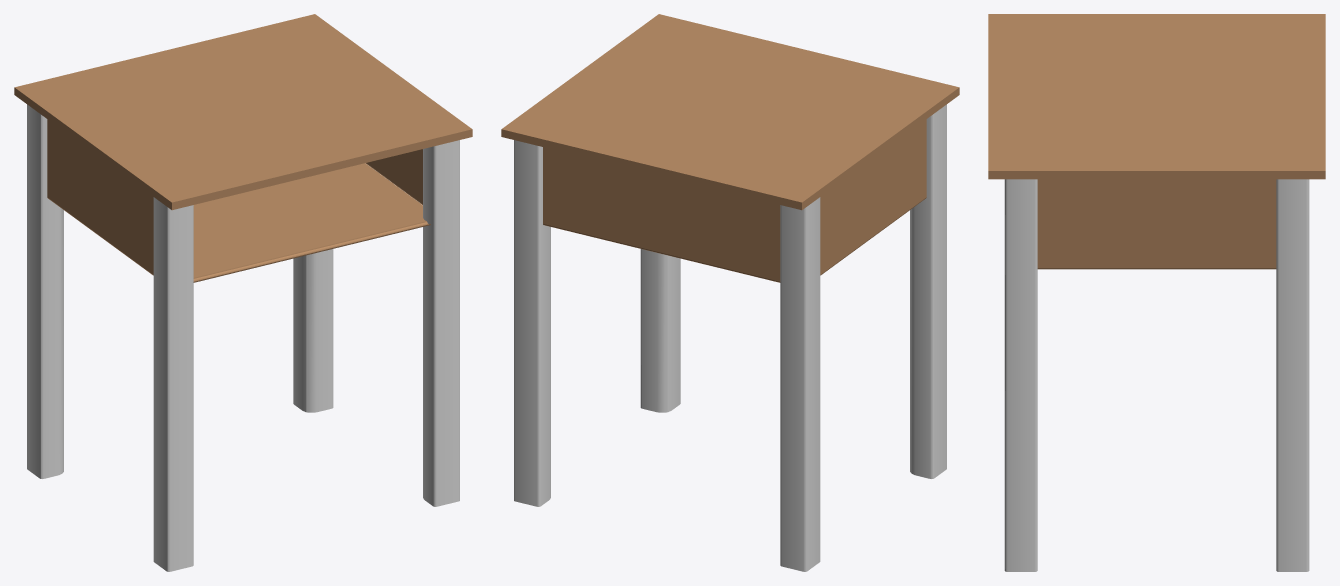
File: School desk Low poly 1.fbx
3 views of the same model, side by side, from view 1: azimuth 30°, elevation 25°; view 2: azimuth 150°, elevation 25°; view 3: azimuth 270°, elevation 25° (orthographic). The views are drawn at different scales.
Visible parts, largest first — view 1: Cube, Cube.001; view 2: Cube, Cube.001; view 3: Cube, Cube.001.
Boxes of the visible parts, <box> form: Cube: <box>14,14,472,282</box>; Cube.001: <box>27,104,459,571</box>; Cube: <box>501,14,959,282</box>; Cube.001: <box>514,104,946,571</box>; Cube: <box>988,14,1325,269</box>; Cube.001: <box>1004,179,1309,571</box>.
Bounding box in the file's own units: 64.14 × 76.71 × 58.18.
